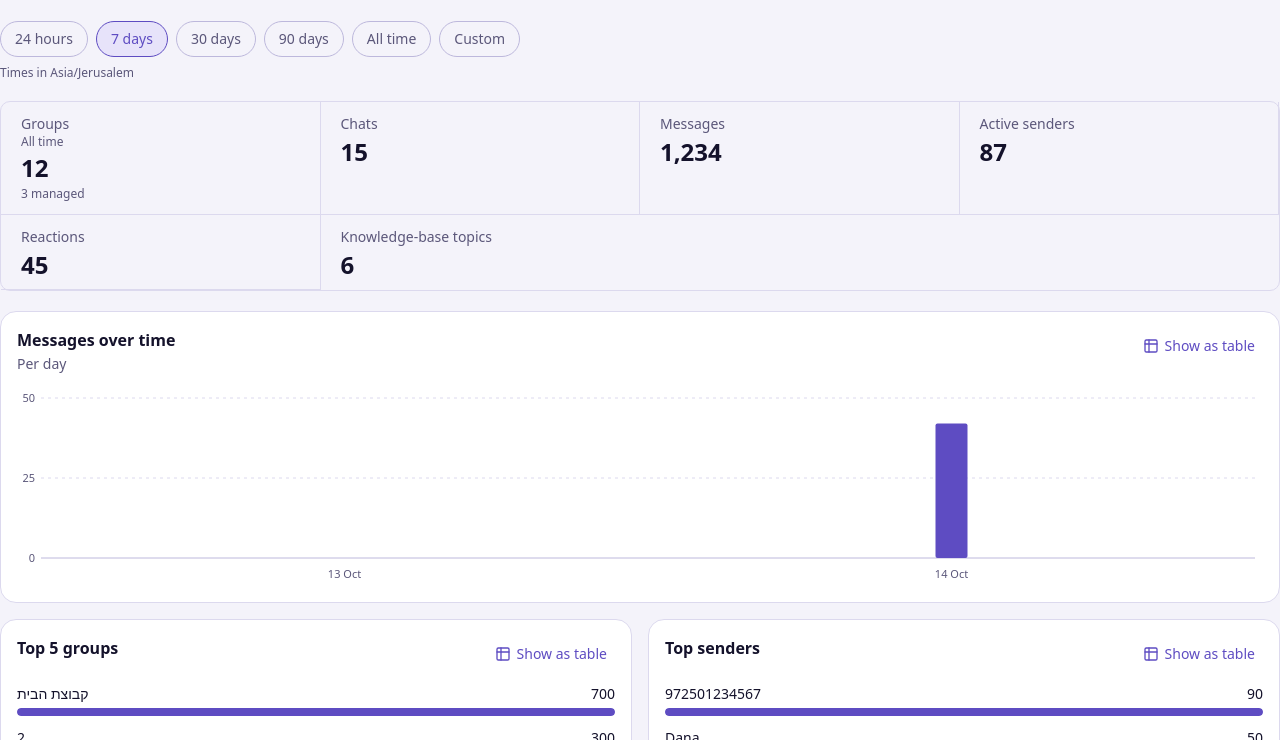
it: Dashboard request parameters › 30 days requests ?range=30d and writes it to the URL
Click the button "30 days" at (216, 39), box 176,21 -> 256,57
(page scrolled)
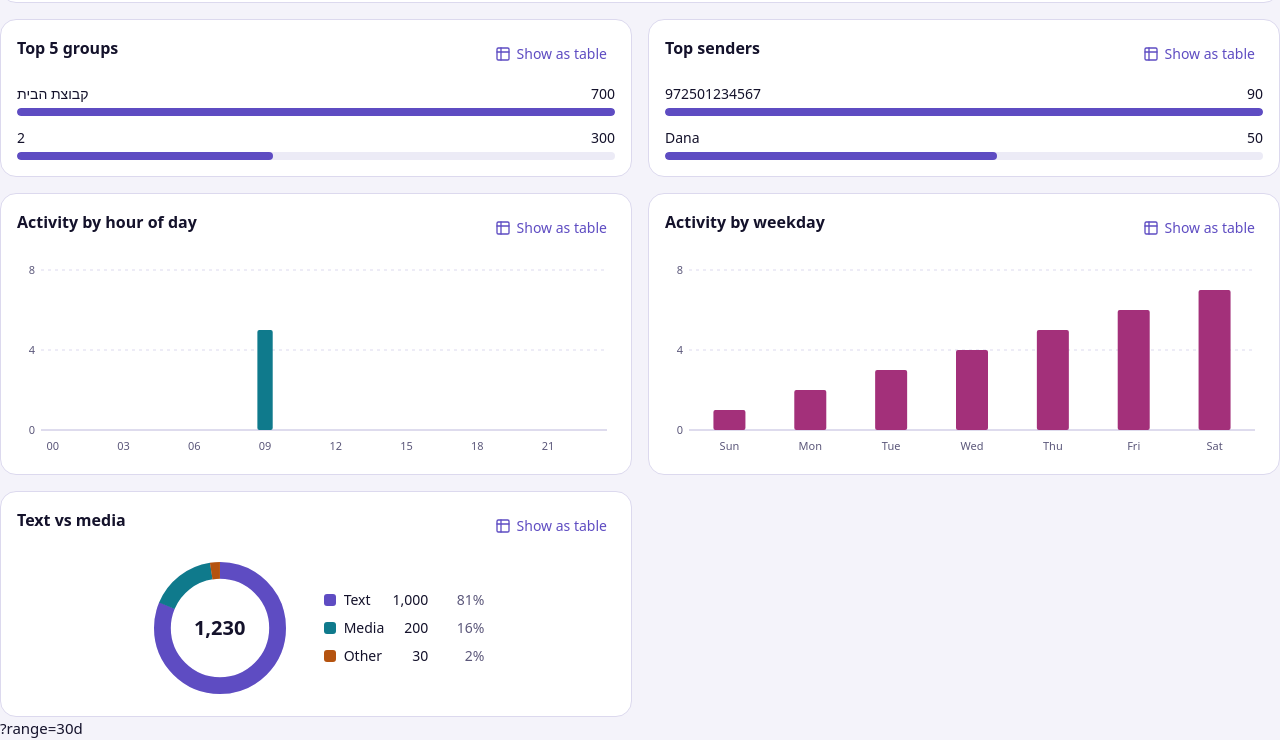
Result: the text with test id "search" reads "?range=30d" at 0,718 -> 83,738
